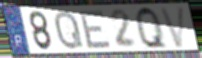2: (109, 8, 138, 49)
8: (28, 10, 53, 52)
E: (79, 8, 113, 50)
Q: (134, 5, 169, 51), (53, 9, 86, 51)
V: (158, 5, 187, 49)
